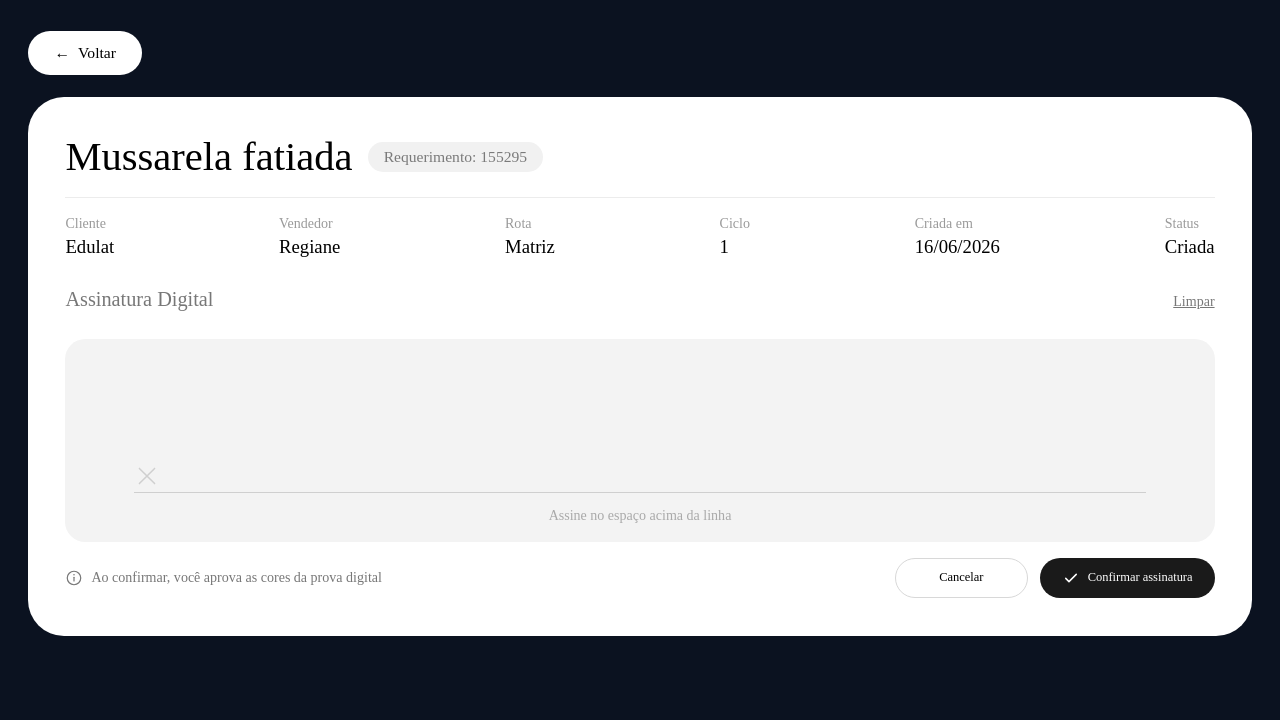
Test case: ConfirmarView (W3-C12) › canvas vazio → bloqueia o envio com aviso (RN-003)
Click the button "Confirmar assinatura".
click(1127, 578)  # box 1040,558 -> 1214,598
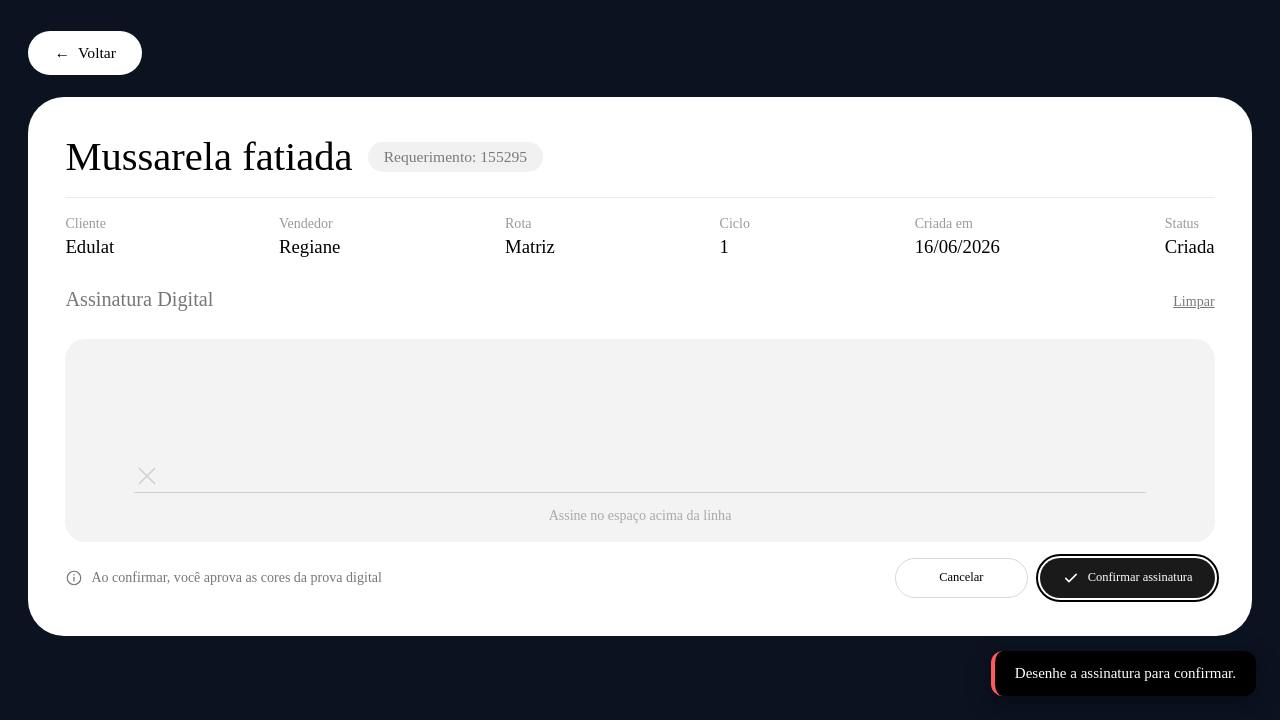
Expected: the text "Desenhe a assinatura para confirmar." is shown, 991,651 -> 1256,696
